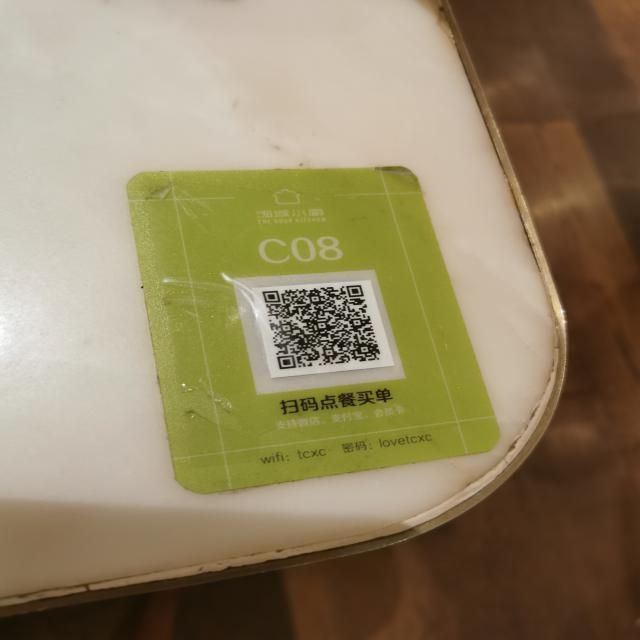qr_code: (262, 284, 382, 370)
